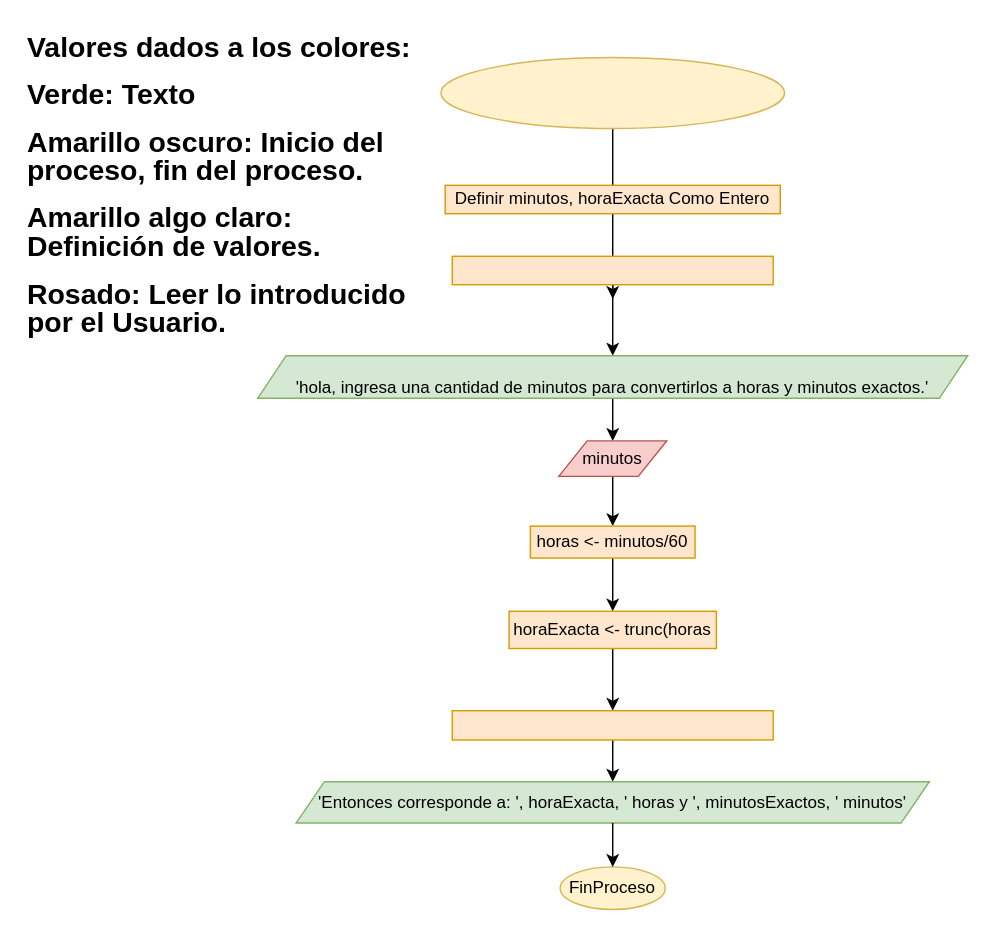
This 993x936 diagram has some shape labels left out. Each missing label, with the centre of its shape:
Definir horas, minutosExactos Como Real: point 612,270
minutosExactos <- (horas-horaExacta)*60: point 612,724
Proceso calculador_dem_minutos_a_horas: point 612,92
